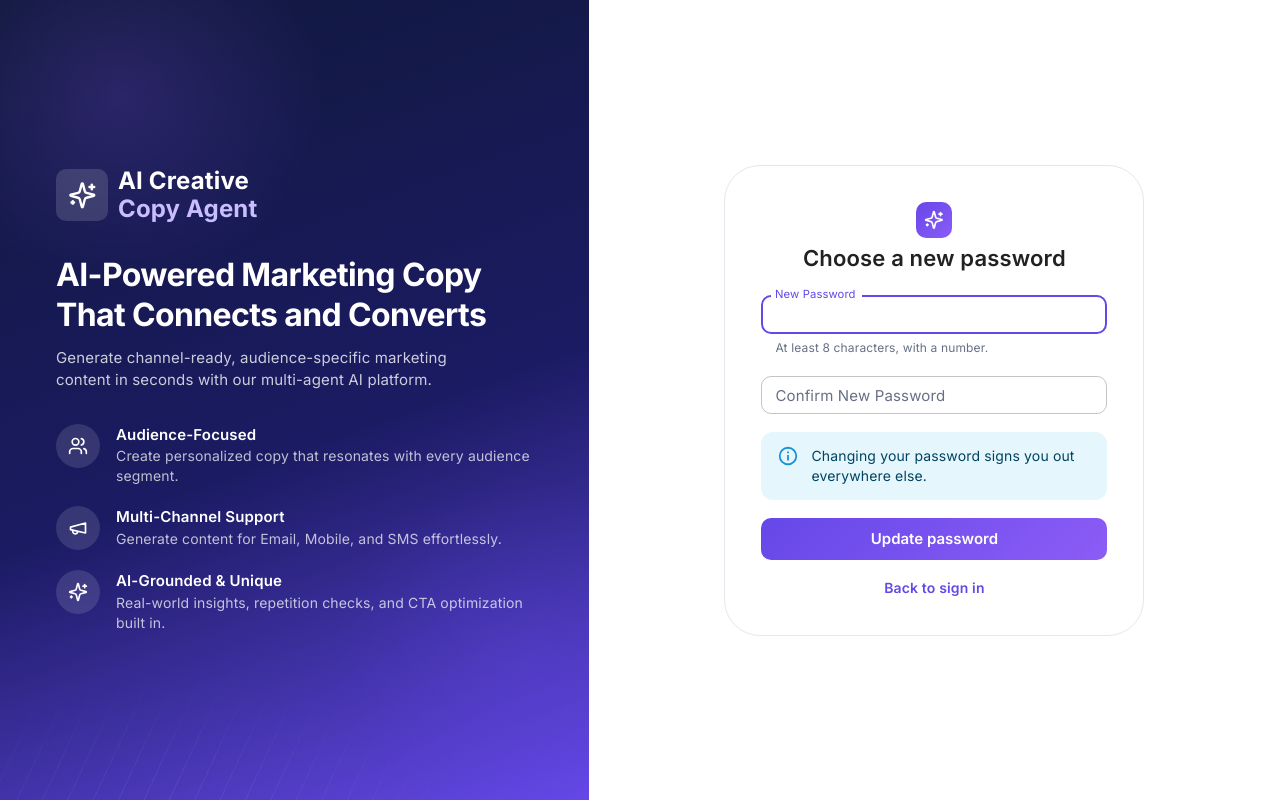
Test case: ResetPasswordPage › submits the token and the new password
In the password field labelled "New Password": (934, 314) [761,295,1107,334], type "BrandNewPass1"
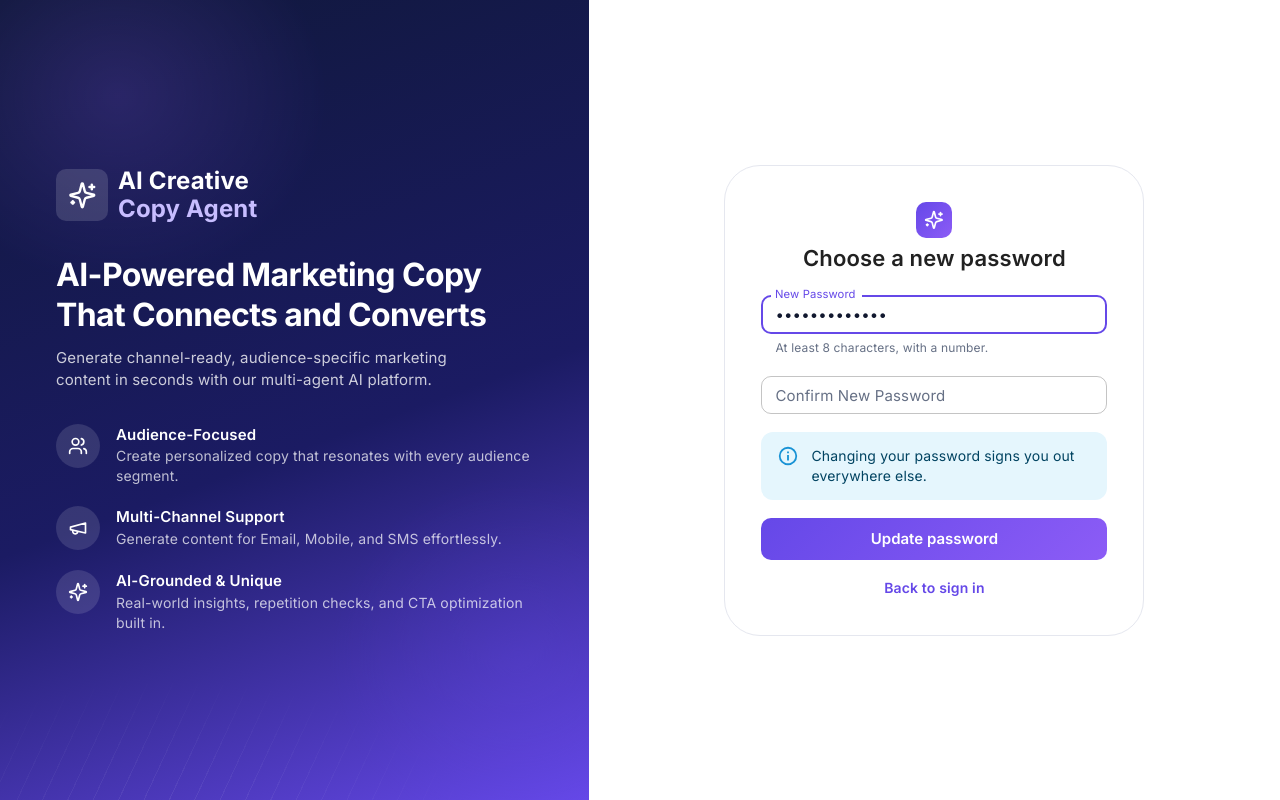
In the password field labelled "Confirm New Password": (934, 395) [761,376,1107,414], type "BrandNewPass1"
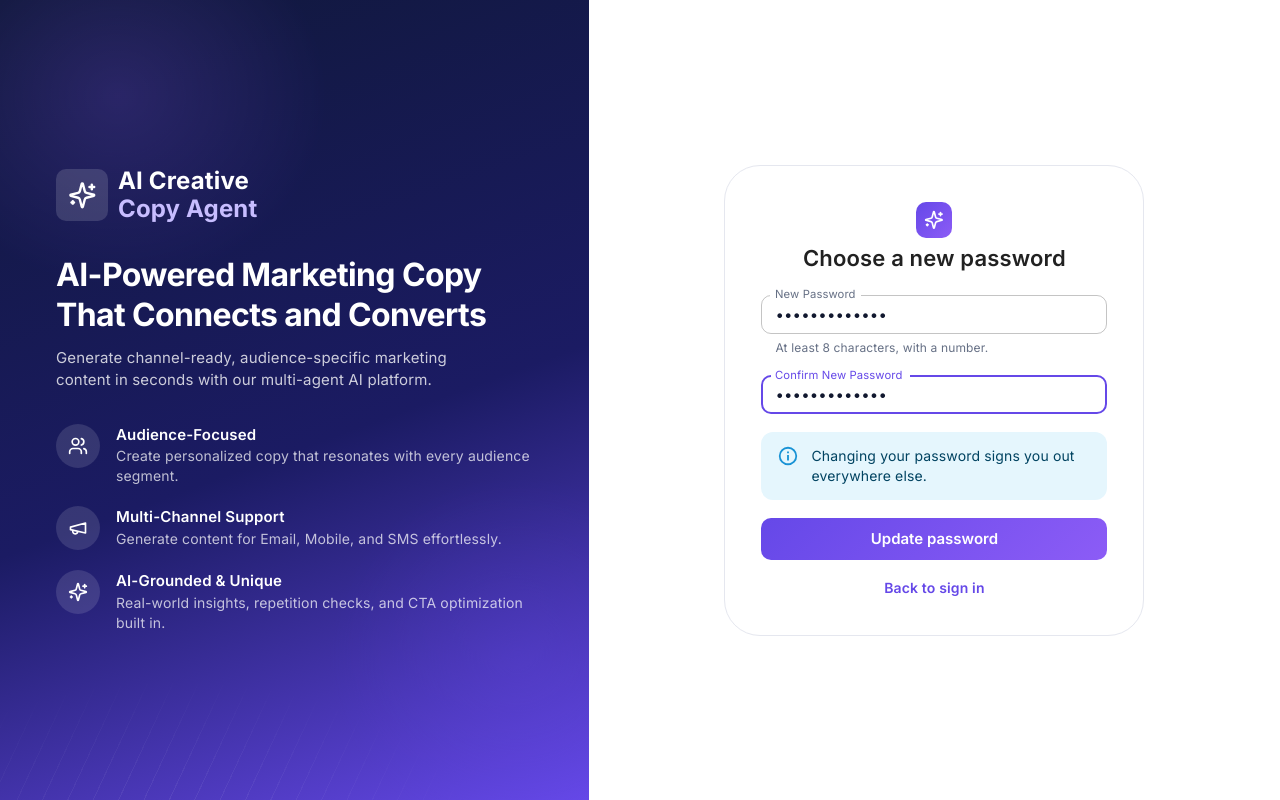
Click the button "Update password": (934, 539) [761,518,1107,560]
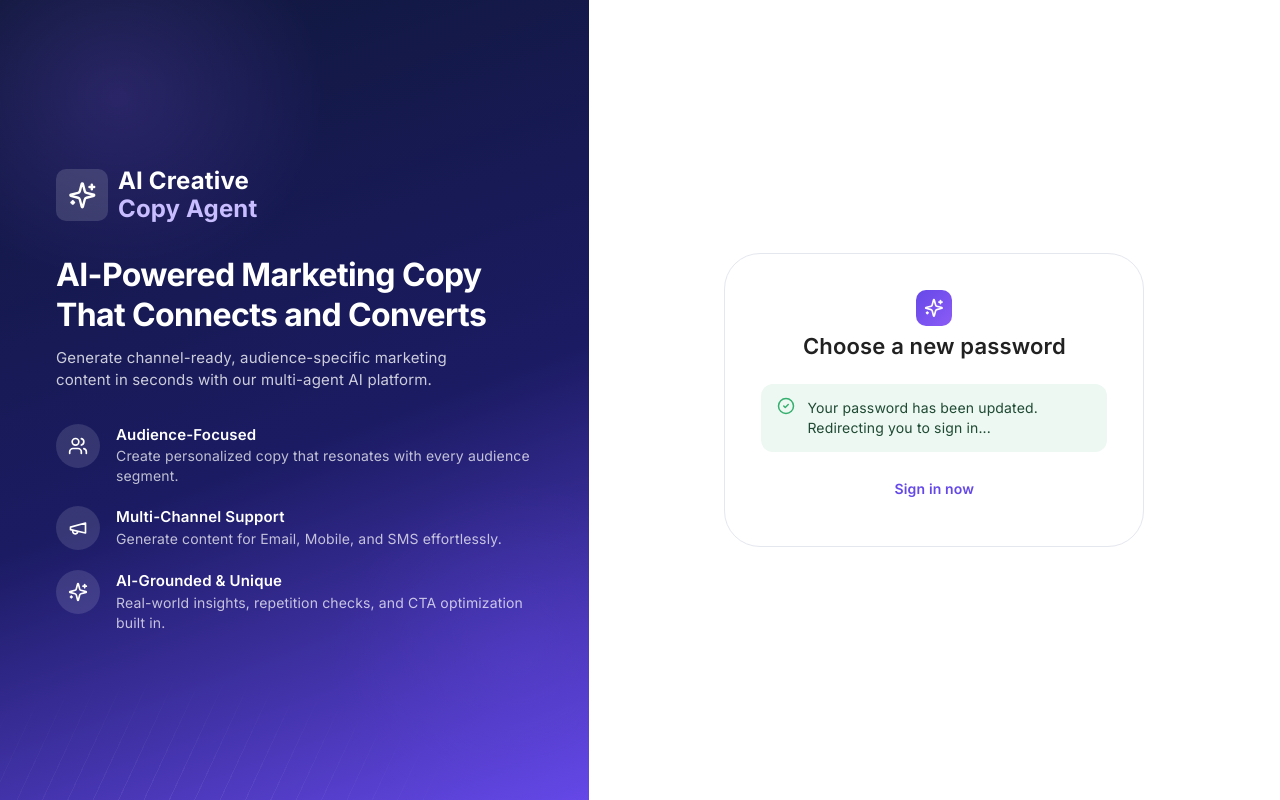
expect the text "Your password has been updated" is shown: met, box [807,399,1038,436]
